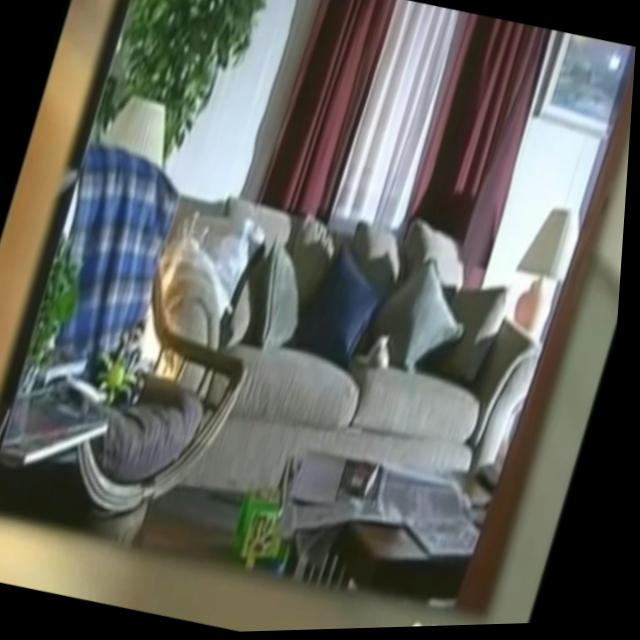fire: (131, 231, 215, 382)
